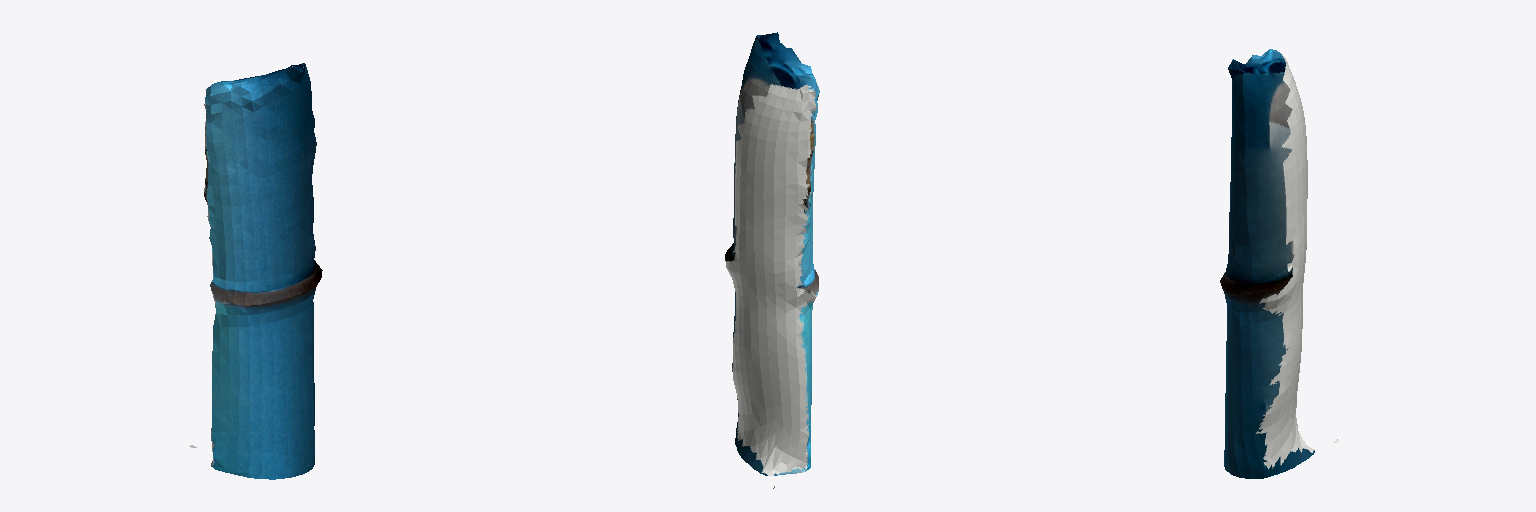
3 views of the same model, side by side, from view 1: azimuth 30°, elevation 25°; view 2: azimuth 150°, elevation 25°; view 3: azimuth 270°, elevation 25° (orthographic).
Visible parts, largest first — view 1: Modra_tyc_Lowpoly_model.028; view 2: Modra_tyc_Lowpoly_model.028; view 3: Modra_tyc_Lowpoly_model.028.
Part boxes in pixels (left/top/right/bottom): Modra_tyc_Lowpoly_model.028: left=189, top=63, right=322, bottom=479; Modra_tyc_Lowpoly_model.028: left=725, top=32, right=819, bottom=488; Modra_tyc_Lowpoly_model.028: left=1220, top=49, right=1339, bottom=478.
Size of the model in its own units: 1.58 by 6.12 by 1.64.
Materials: 1 (1 with a texture image).